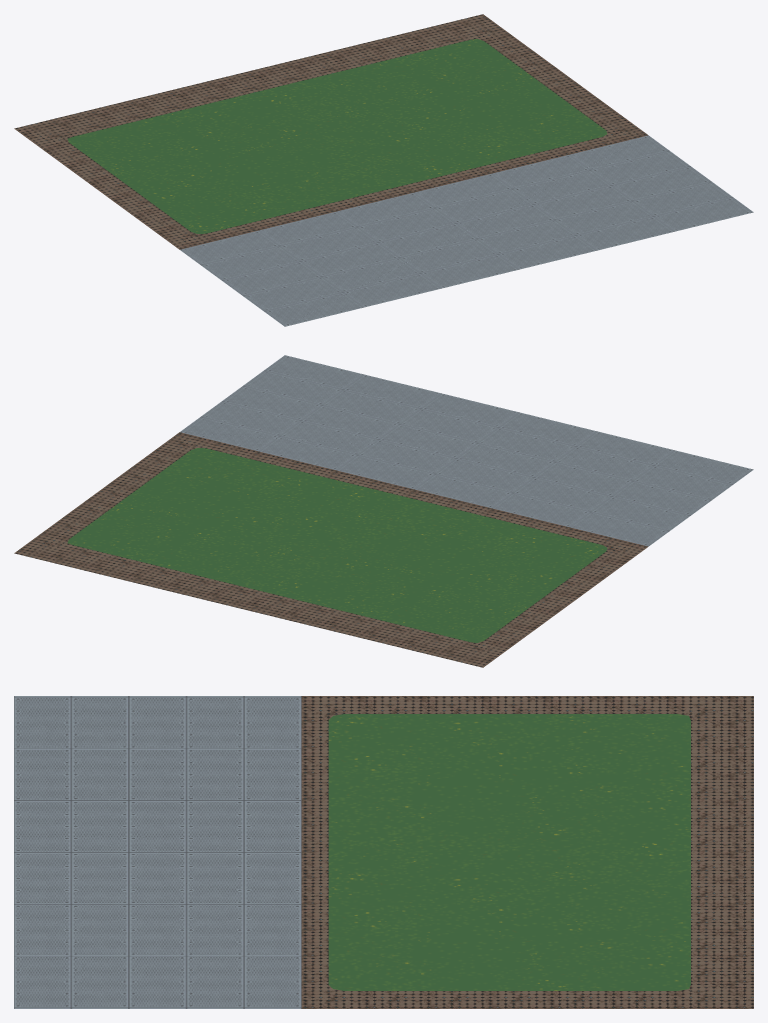
The model's file is obj_floor.gltf.
3 views of the same model, one above another, from view 1: azimuth 30°, elevation 25°; view 2: azimuth 150°, elevation 25°; view 3: azimuth 270°, elevation 25° (orthographic). The views are drawn at different scales.
Visible parts, largest first — view 1: obj_floor; view 2: obj_floor; view 3: obj_floor.
Part boxes in pixels (x1,y1,x2,y2): obj_floor: (14, 14, 753, 326); obj_floor: (14, 355, 753, 667); obj_floor: (14, 696, 753, 1008).
Bounding box in the file's own units: 16 × 0 × 16.
3 materials, 3 textured.
